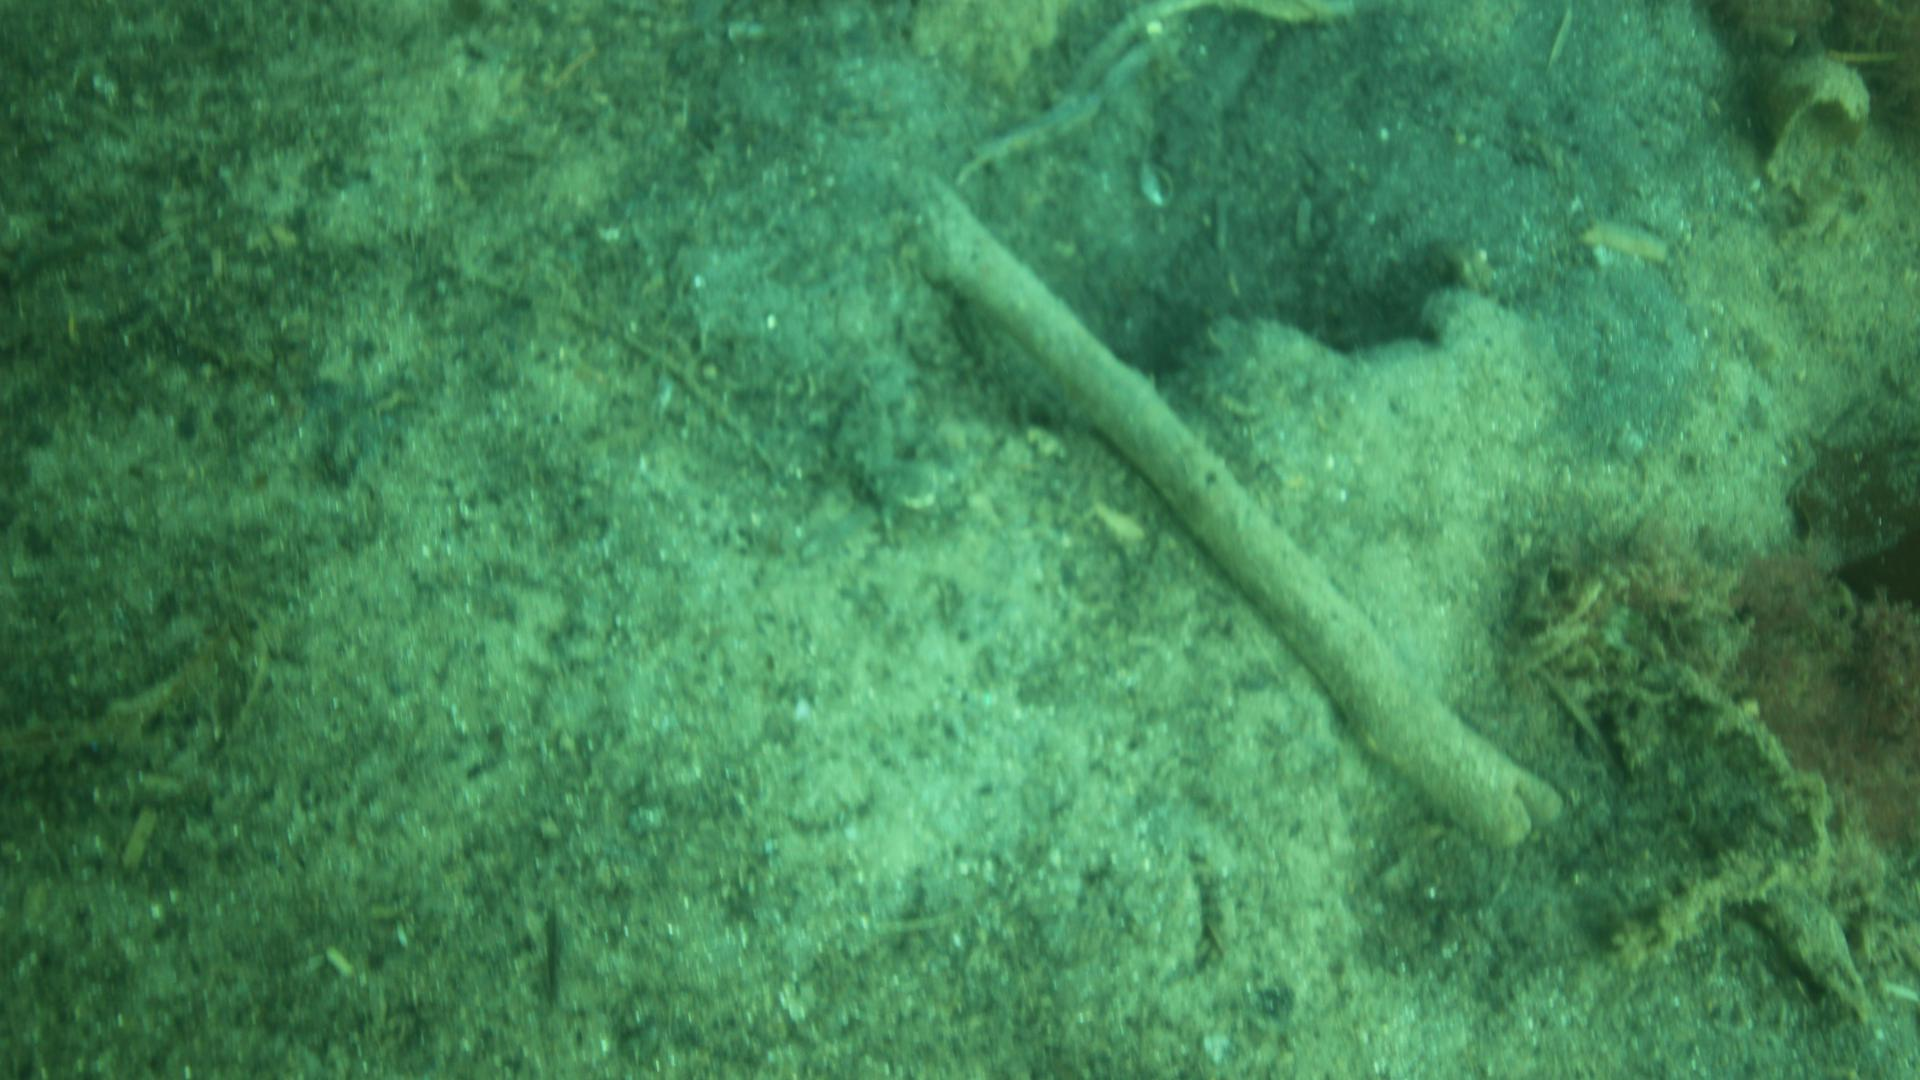wood: (942, 179, 1556, 844)
